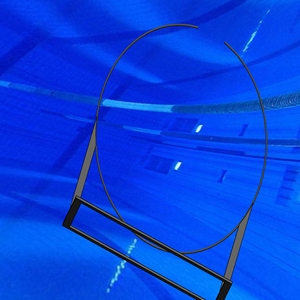circle: (62, 23, 269, 299)
